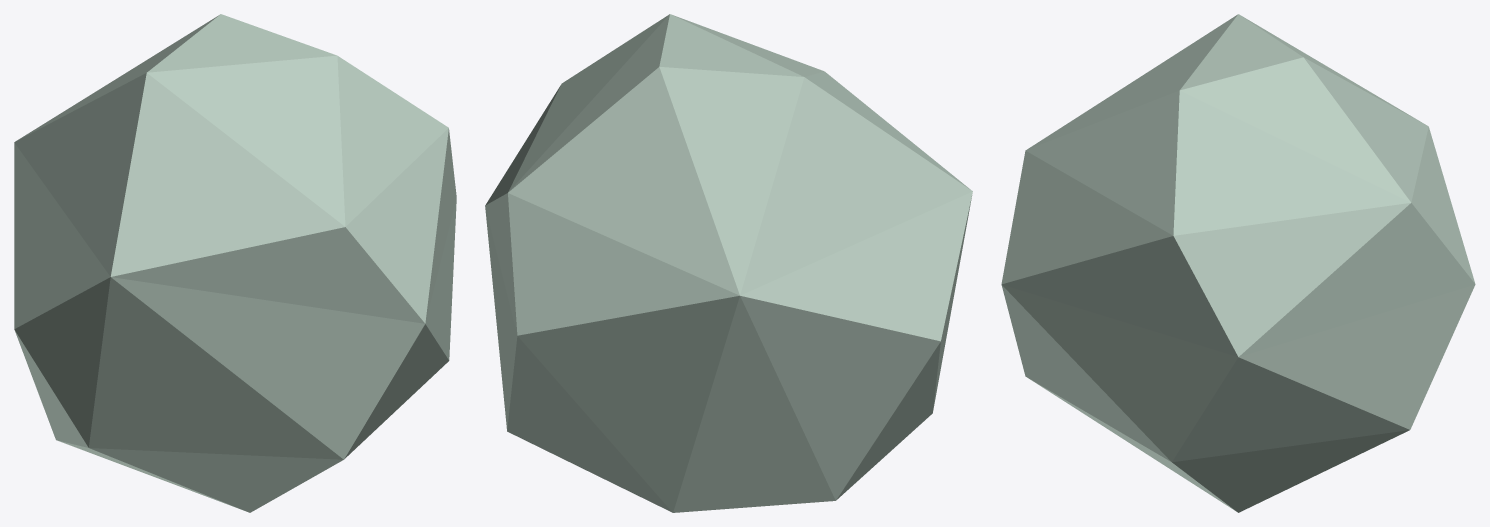
Rendered from Piedra.fbx.
3 renders of one model, left to right at view 1: azimuth 30°, elevation 25°; view 2: azimuth 150°, elevation 25°; view 3: azimuth 270°, elevation 25°, orthographic. The views are drawn at different scales.
Visible parts, largest first — view 1: Icosphere; view 2: Icosphere; view 3: Icosphere.
Boxes of the visible parts, left/top/right/bottom form: Icosphere: left=14, top=14, right=456, bottom=512; Icosphere: left=485, top=14, right=972, bottom=512; Icosphere: left=1001, top=14, right=1475, bottom=512.
Bounding box in the file's own units: 209 × 199 × 199.
